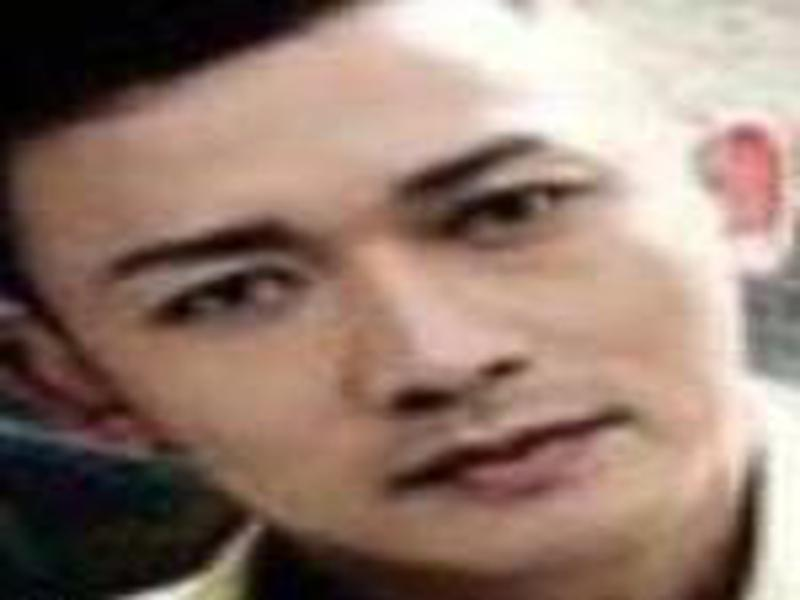without_mask: (27, 48, 733, 540)
